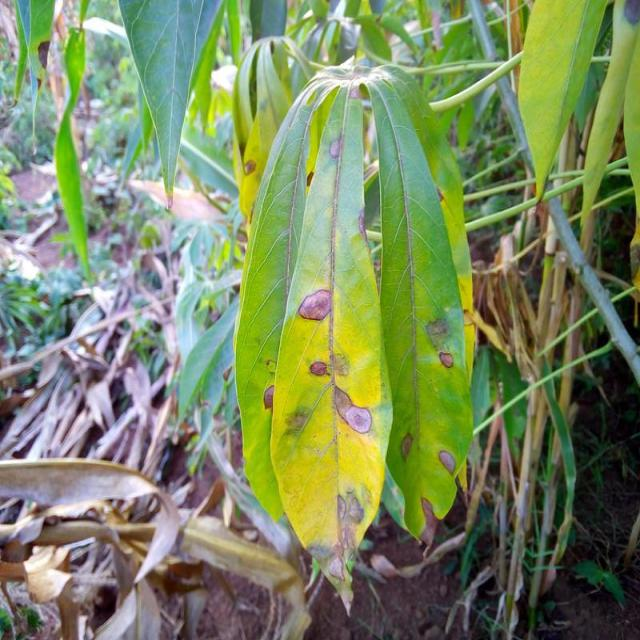cassava leaf: (233, 54, 475, 612), (268, 78, 394, 615), (364, 61, 474, 542)
